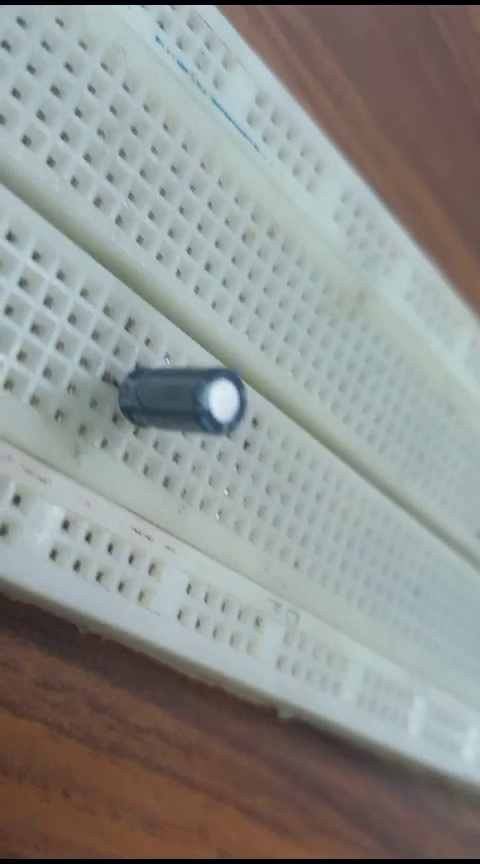capacitor: (107, 348, 246, 456)
